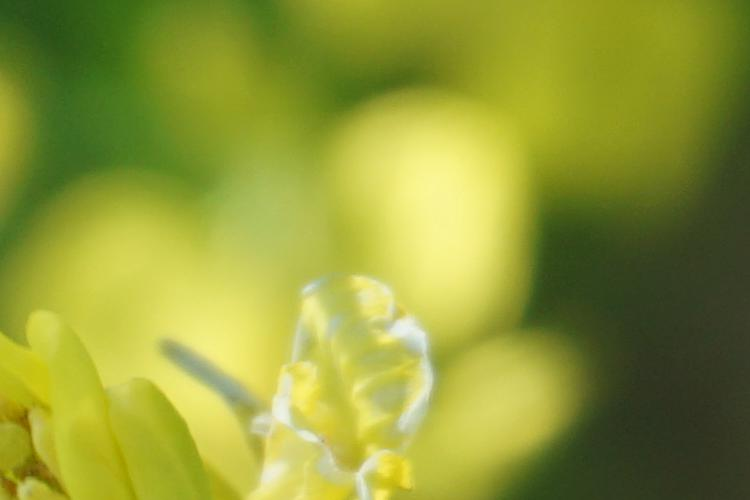yellow: (1, 279, 463, 500)
